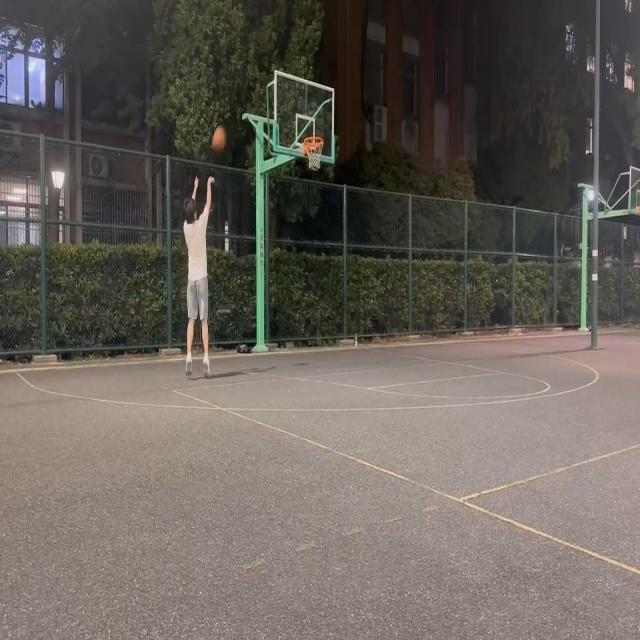basketball: (303, 136, 324, 172)
rim: (212, 127, 225, 151)
